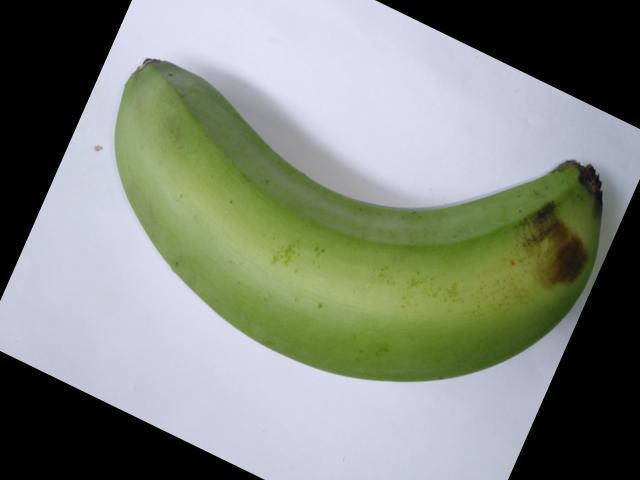freshunripe: (95, 43, 626, 405)
